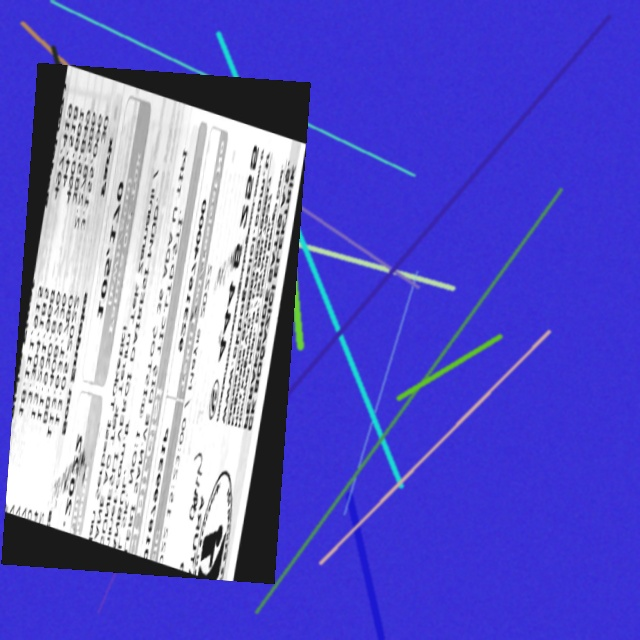electricity-bill: (1, 62, 311, 583)
